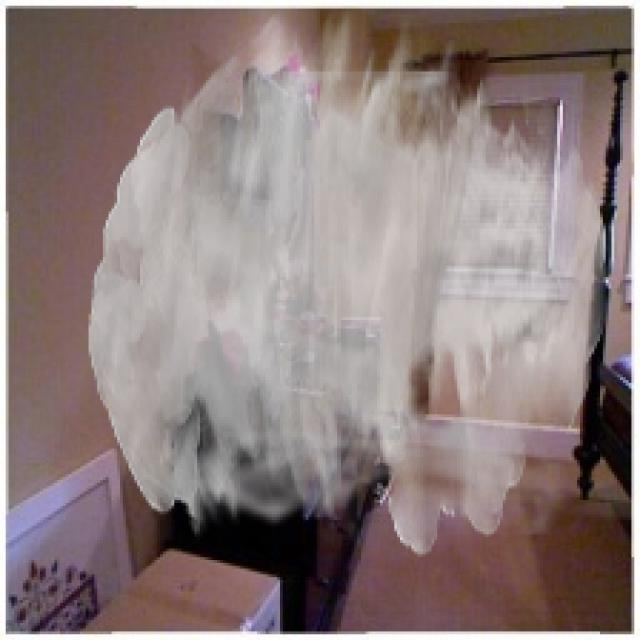smoke: (89, 6, 608, 557)
